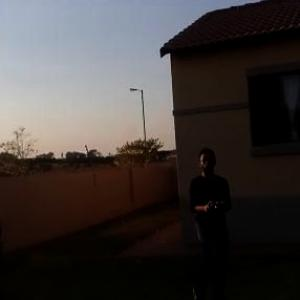follow: (186, 144, 242, 299)
